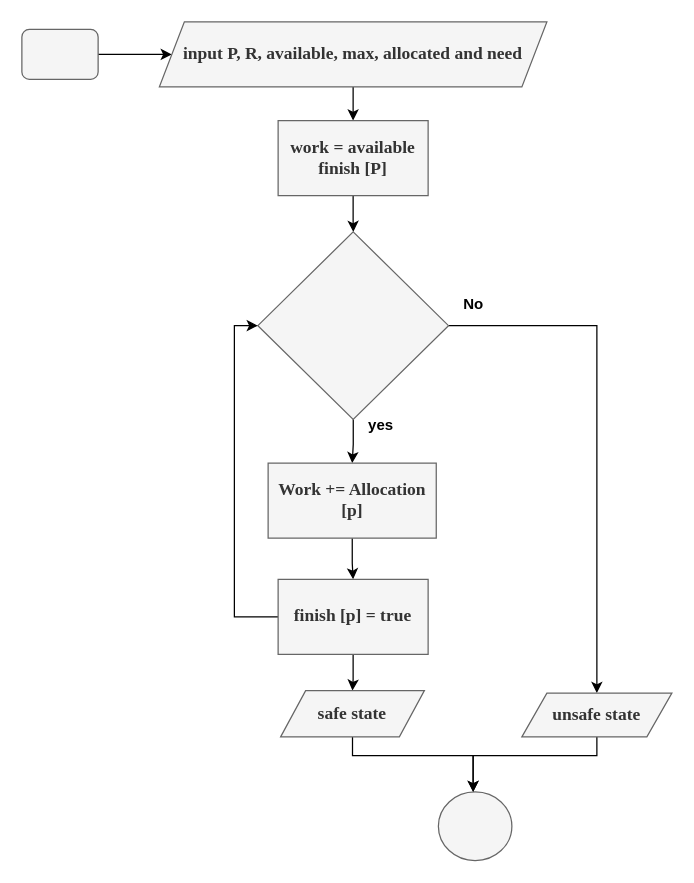
Some shapes in this 694 by 883 pixel diagram are drawn without their labels. Here are the shapes that lost their labels. From the top down, the box of each, then its label:
(21, 28, 98, 79): Start
(257, 231, 448, 419): Need p <= Work && finish [p] = false
(437, 791, 512, 861): end
